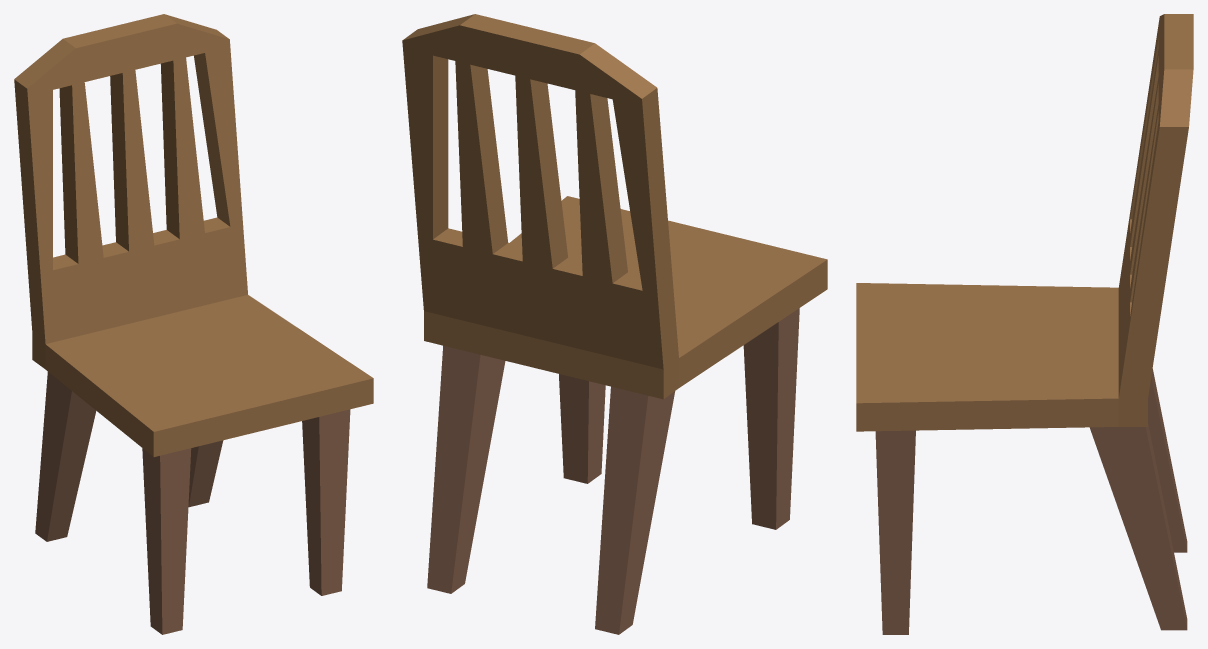
The model's file is Chair2.fbx.
The picture shows the model from 3 angles, left to right: view 1: azimuth 30°, elevation 25°; view 2: azimuth 150°, elevation 25°; view 3: azimuth 270°, elevation 25°; orthographic projection. The views are drawn at different scales.
Parts seen in each view (by area): view 1: Cube; view 2: Cube; view 3: Cube.
Boxes of the visible parts, bbox=[...] form: Cube: bbox=[14, 14, 373, 634]; Cube: bbox=[402, 14, 827, 634]; Cube: bbox=[856, 14, 1193, 634].
Size of the model in its own units: 0.76 by 1.6 by 0.8996.
